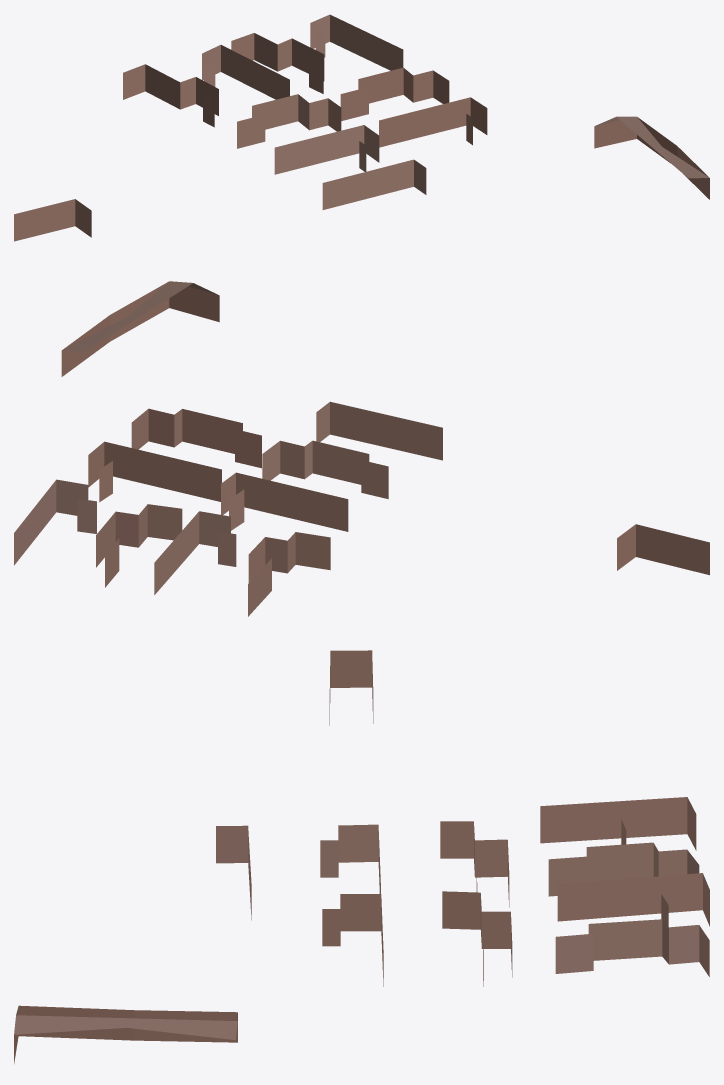
The model's file is c_1633_17836_buildings_residential.glb.
The picture shows the model from 3 angles, top to bottom: view 1: azimuth 30°, elevation 25°; view 2: azimuth 150°, elevation 25°; view 3: azimuth 270°, elevation 25°; orthographic projection. The views are drawn at different scales.
Parts seen in each view (by area): view 1: geometry_0; view 2: geometry_0; view 3: geometry_0.
Part boxes in pixels (<box>): geometry_0: <box>14,14,709,241</box>; geometry_0: <box>14,281,709,616</box>; geometry_0: <box>14,650,709,1063</box>.
Size of the model in its own units: 242 by 12.29 by 186.
